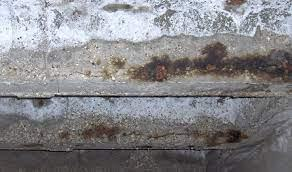Corrosion: (127, 41, 292, 81), (206, 128, 249, 147), (81, 124, 121, 141)
Spalling: (1, 24, 292, 95), (1, 111, 290, 150), (102, 3, 133, 13), (225, 1, 247, 6)
